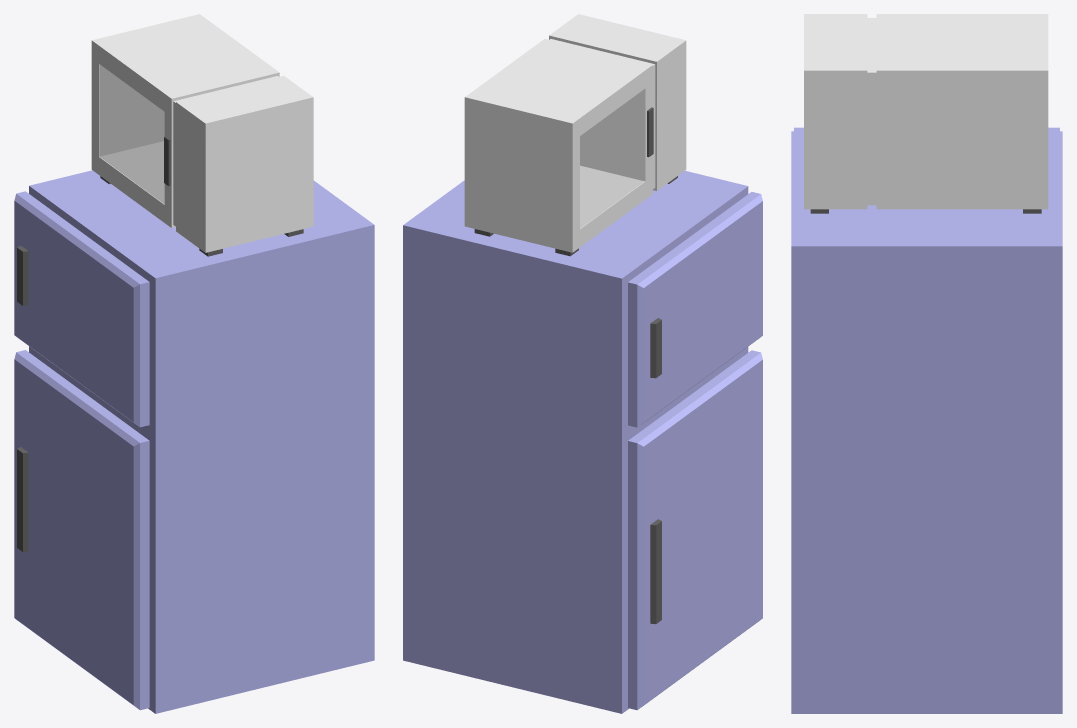
Rendered from Fridge and Oven.fbx.
3 renders of one model, left to right at view 1: azimuth 30°, elevation 25°; view 2: azimuth 150°, elevation 25°; view 3: azimuth 270°, elevation 25°, orthographic. The views are drawn at different scales.
Visible parts, largest first — view 1: pCube146, polySurface1, polySurface2; view 2: pCube146, polySurface1, polySurface2; view 3: pCube146, polySurface1.
Boxes of the visible parts, bbox=[...] form: pCube146: bbox=[14, 170, 374, 713]; polySurface1: bbox=[91, 14, 313, 252]; polySurface2: bbox=[99, 64, 164, 203]; pCube146: bbox=[403, 170, 762, 713]; polySurface1: bbox=[464, 14, 686, 252]; polySurface2: bbox=[580, 89, 644, 228]; pCube146: bbox=[791, 127, 1062, 713]; polySurface1: bbox=[804, 14, 1048, 209].
Bounding box in the file's own units: 1.11 × 2.5 × 1.
Materials: 2 (1 with a texture image).
